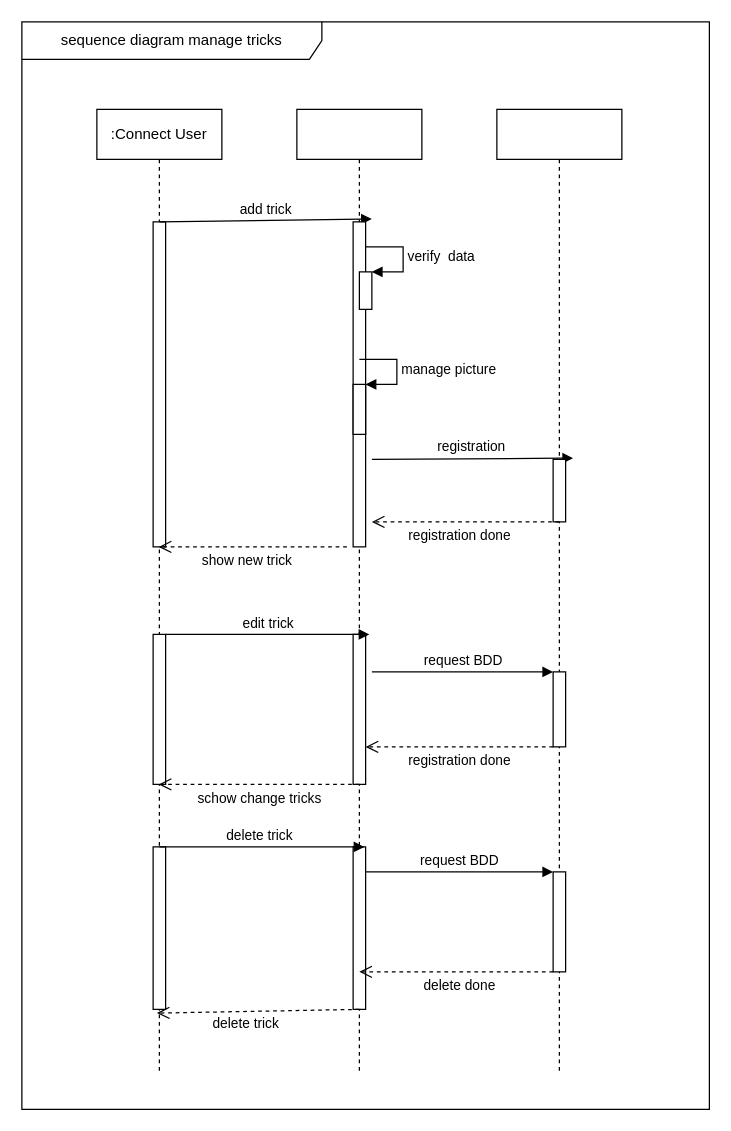
This 731x1131 diagram has some shape labels left out. The shapes that lost their labels are listed below. From the top down, each one's box as (x1, y1, x2, y2) in pixels, then its label:
(296, 108, 422, 1072): :SnowTricks
(496, 108, 622, 1072): :BDD
